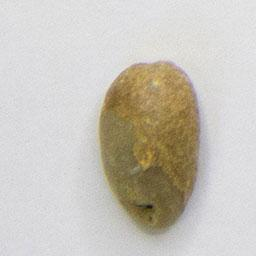longberry: (94, 57, 204, 232)
